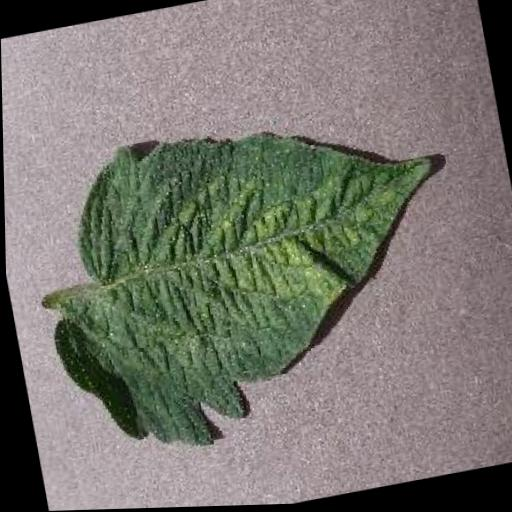Spider Mites: (18, 88, 474, 471)
